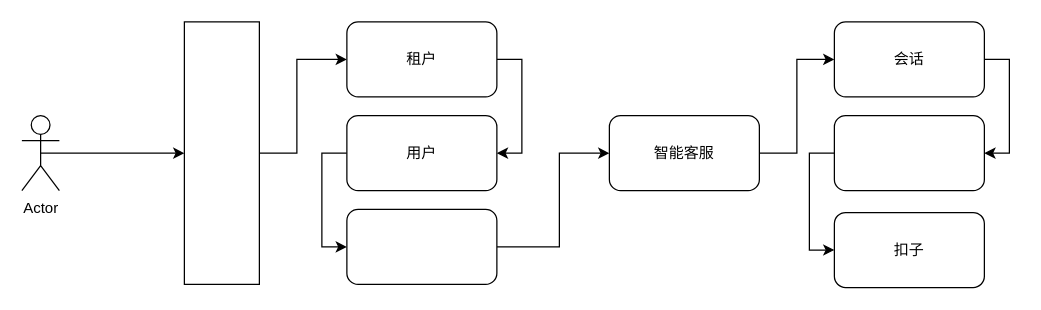
This 1041x310 diagram has some shape labels left out. The centre of each missing label's shape, as x and y in pixels:
"接入层" goes at (x=221, y=152).
"服务" goes at (x=421, y=246).
"消息记录" goes at (x=908, y=152).
